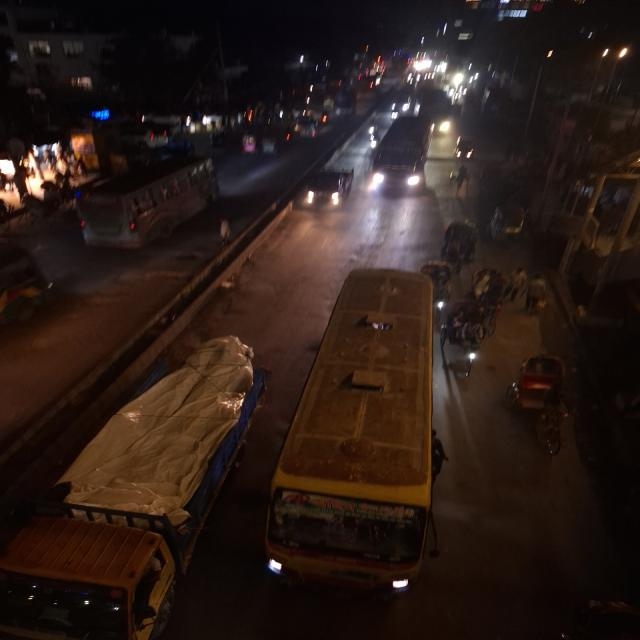bus: (265, 264, 454, 608), (72, 153, 224, 254), (367, 113, 436, 201)
car: (297, 165, 354, 217)
cng: (0, 238, 57, 339)
motorcycle: (365, 121, 380, 147)
rickshaw: (506, 350, 571, 460), (452, 263, 509, 380), (451, 135, 479, 163), (446, 170, 473, 197)
truck: (0, 491, 204, 640)
